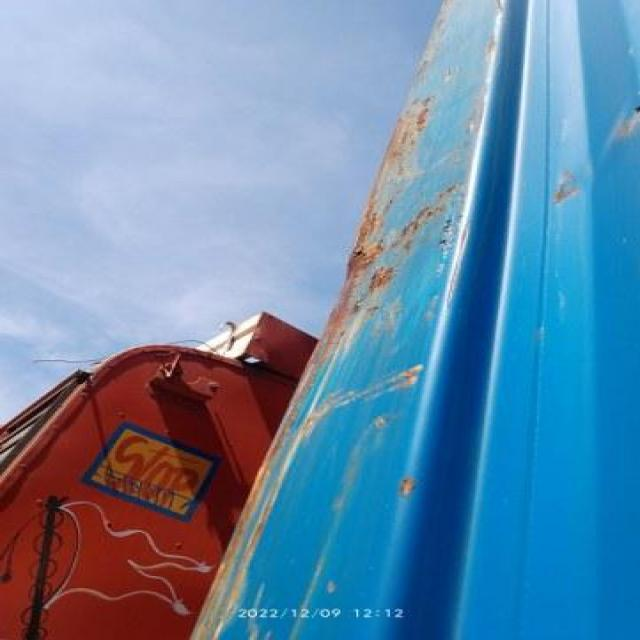Rust: (296, 94, 461, 388)
